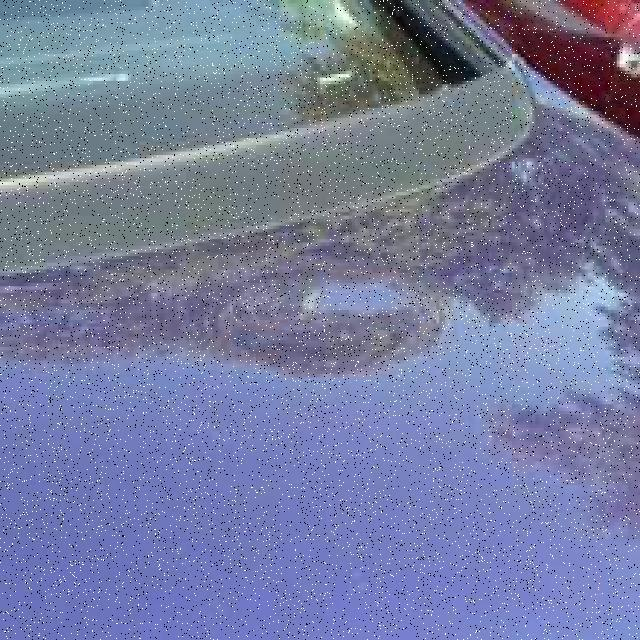car damage: (9, 169, 577, 637)
